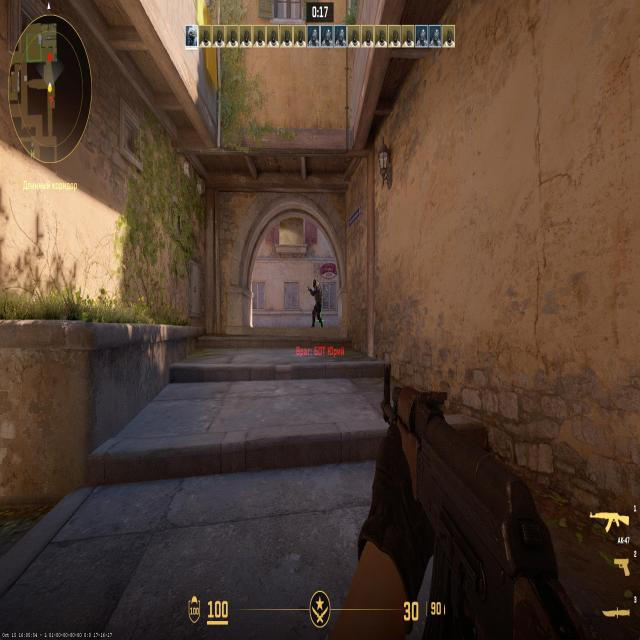CT: (309, 278, 321, 327)
CT_heat: (313, 280, 317, 290)
